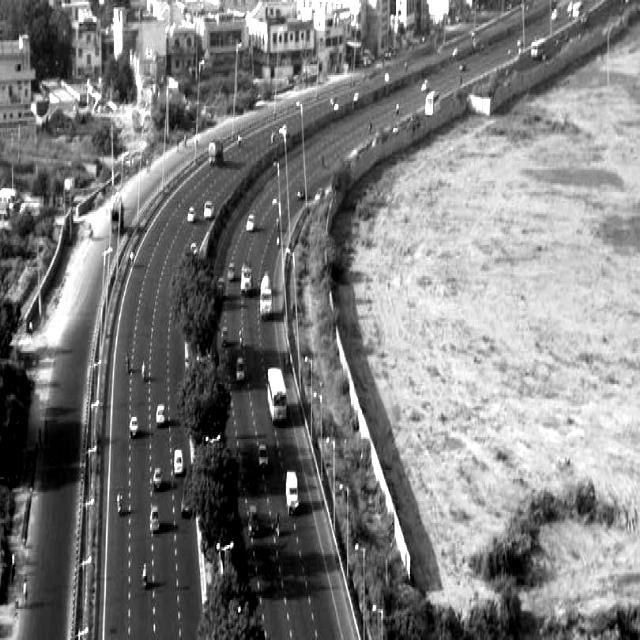cleat: (58, 9, 616, 640)
